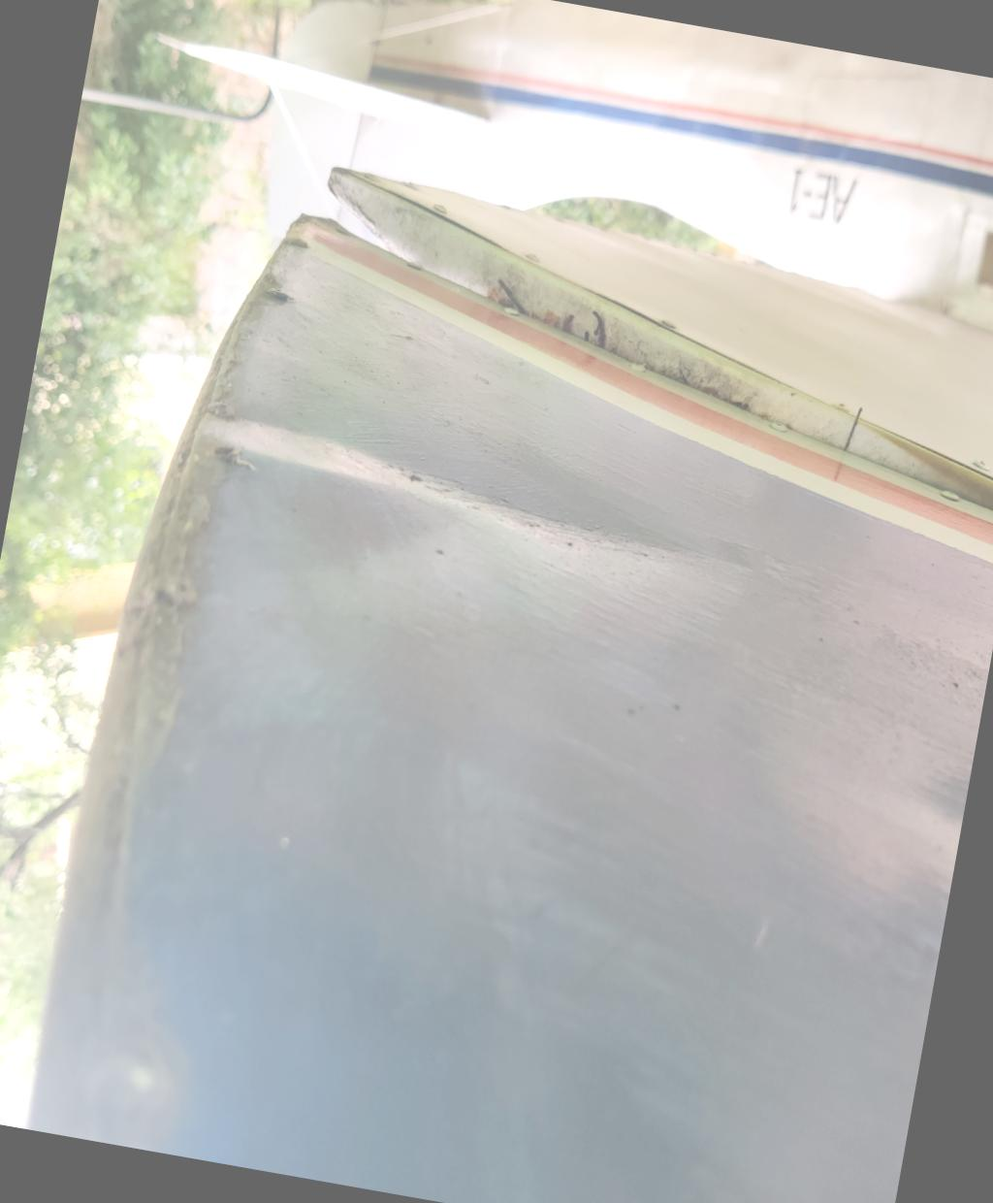dent: (134, 322, 762, 693)
